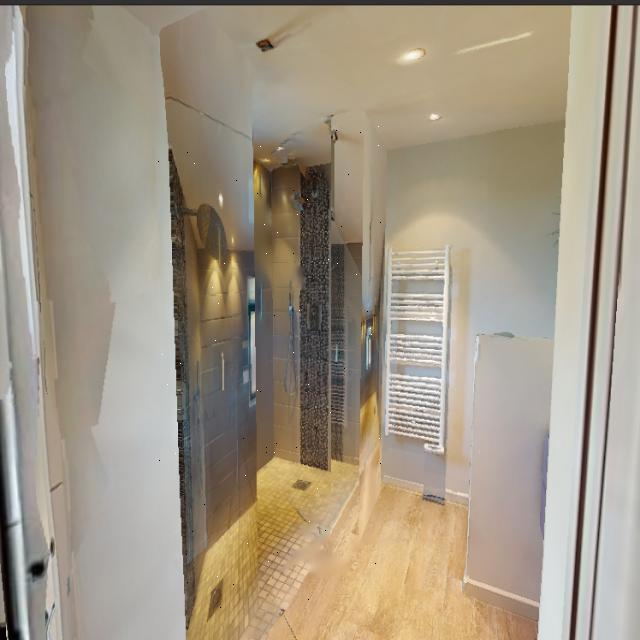shower: (158, 120, 384, 609)
